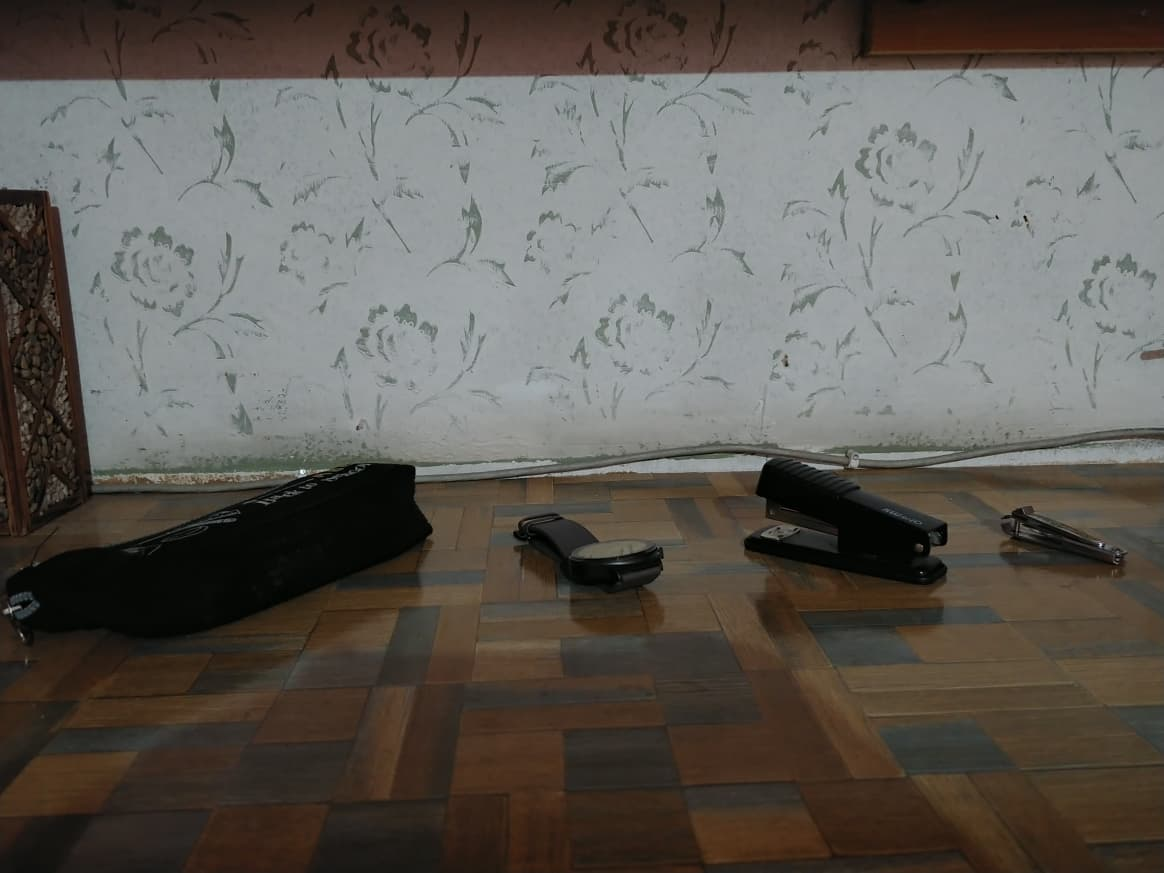Geometry box: (0, 440, 444, 672)
Nail cutter: (974, 472, 1150, 610)
Smartwatch: (470, 466, 694, 637)
Stapler: (727, 435, 955, 633)
